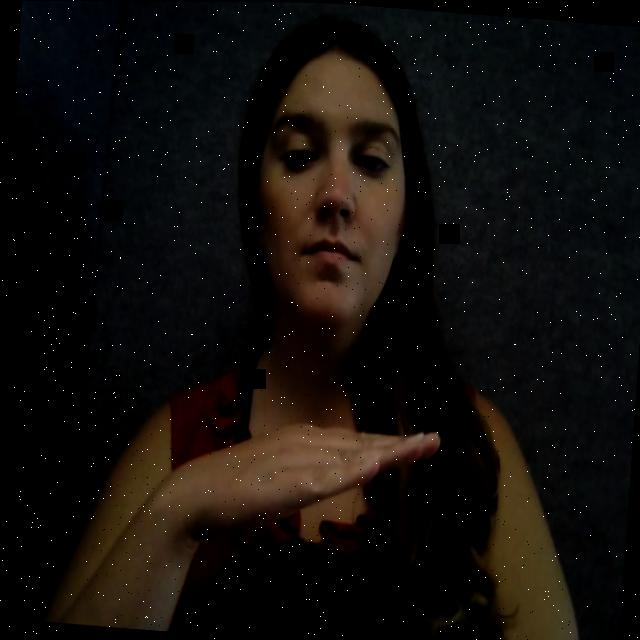Paper: (179, 378, 464, 571)
